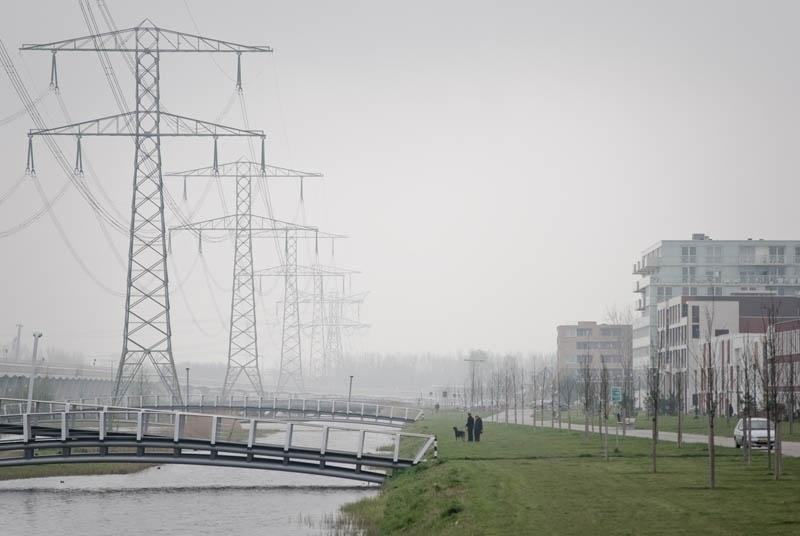power_tower: (19, 17, 272, 414), (158, 157, 322, 399), (243, 220, 348, 402), (274, 262, 362, 399), (303, 285, 371, 400)
